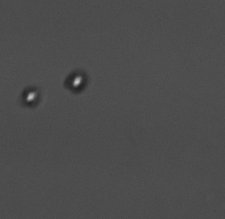Living Cell: (65, 70, 86, 92), (21, 86, 40, 105)
